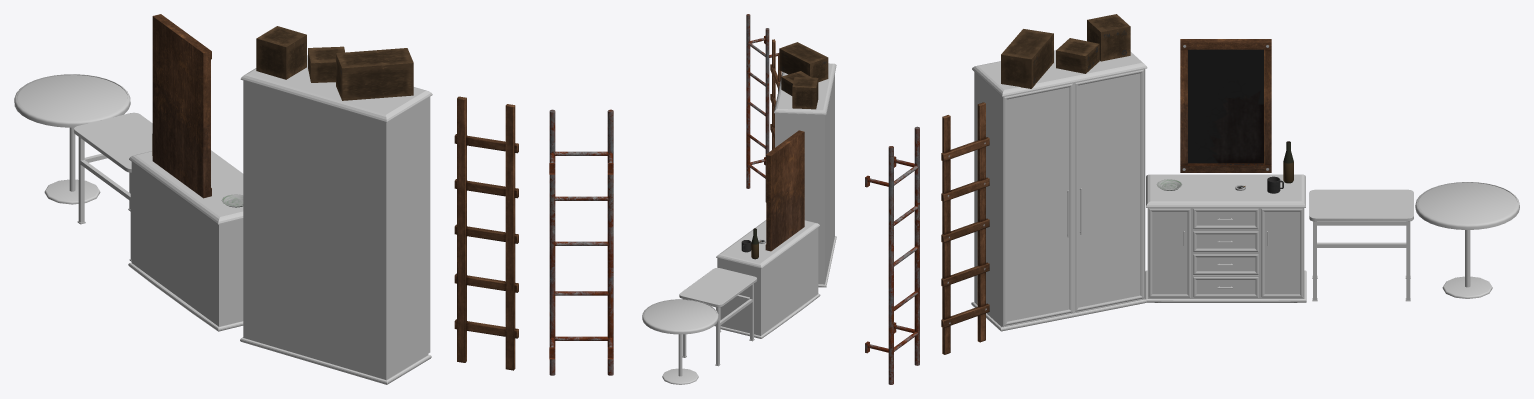
The model's file is furniture_pack.fbx.
3 renders of one model, left to right at view 1: azimuth 30°, elevation 25°; view 2: azimuth 150°, elevation 25°; view 3: azimuth 270°, elevation 25°, orthographic. The views are drawn at different scales.
Parts seen in each view (by area): view 1: dresser_02_base, dresser_base, Mirror, ladder01, Table02, ladder02, Table01, Cube.002, Cube, Cube.001, dresser_door_r.002; view 2: dresser_base, dresser_02_base, Mirror, Table02, Table01, ladder02, Cube.002, Cube, ladder01, Cube.001, Cylinder; view 3: dresser_door_r.002, dresser_door_r.001, Mirror, dresser_02_base, ladder01, dresser_base, Table02, Table01, Dresser_door_l, dresser_door_r, ladder02, Cube.002 (+6 smaller).
Part boxes in pixels (x1,y1,x2,y2): dresser_02_base: (240,55,432,384); dresser_base: (128,150,243,331); Mirror: (152,14,211,198); ladder01: (454,96,518,370); Table02: (14,74,130,204); ladder02: (549,109,613,375); Table01: (73,112,152,261); Cube.002: (336,48,413,100); Cube: (256,26,306,79); Cube.001: (308,46,345,82); dresser_door_r.002: (428,97,430,353); dresser_base: (716,220,820,338); dresser_02_base: (774,63,836,287); Mirror: (765,130,804,251); Table02: (642,299,718,384); Table01: (679,268,757,366); ladder02: (746,14,779,202); Cube.002: (779,42,828,82); Cube: (792,77,818,109); ladder01: (770,39,781,149); Cube.001: (781,71,811,95); Cylinder: (751,228,758,259); dresser_door_r.002: (1002,83,1074,327); dresser_door_r.001: (1074,69,1145,313); Mirror: (1180,39,1271,172); dresser_02_base: (971,50,1147,331); ladder01: (941,102,989,354); dresser_base: (1145,174,1306,302); Table02: (1415,182,1519,298); Table01: (1309,189,1413,301); Dresser_door_l: (1147,208,1191,298); dresser_door_r: (1260,208,1304,298); ladder02: (865,126,919,384); Cube.002: (1001,29,1053,88).
Bounding box in the file's own units: 215 × 228 × 501.
